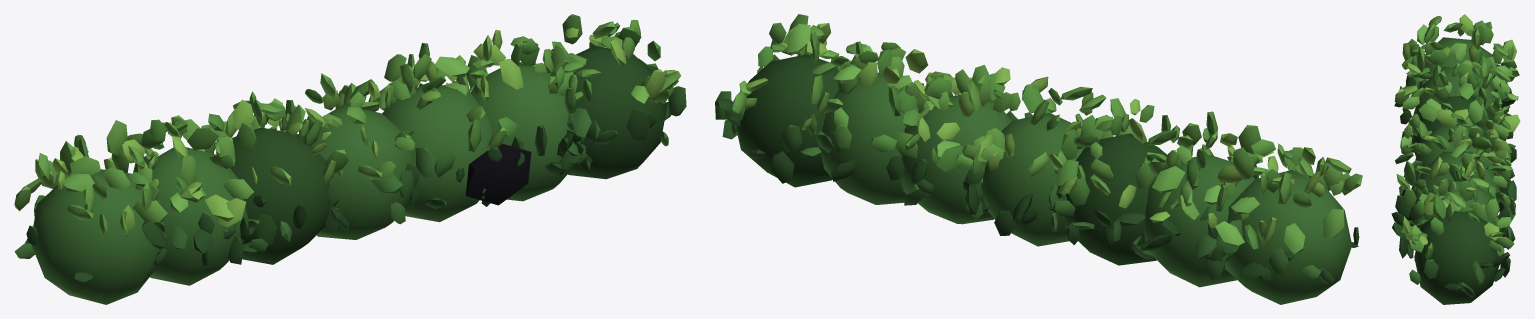
File: hedge.glb
3 renders of one model, left to right at view 1: azimuth 30°, elevation 25°; view 2: azimuth 150°, elevation 25°; view 3: azimuth 270°, elevation 25°, orthographic. The views are drawn at different scales.
Parts seen in each view (by area): view 1: hedge; view 2: hedge; view 3: hedge.
Part boxes in pixels (x1,y1,x2,y2): hedge: (14, 14, 686, 304); hedge: (715, 14, 1362, 304); hedge: (1391, 14, 1520, 304).
Bounding box in the file's own units: 4.66 × 1.13 × 1.15.
